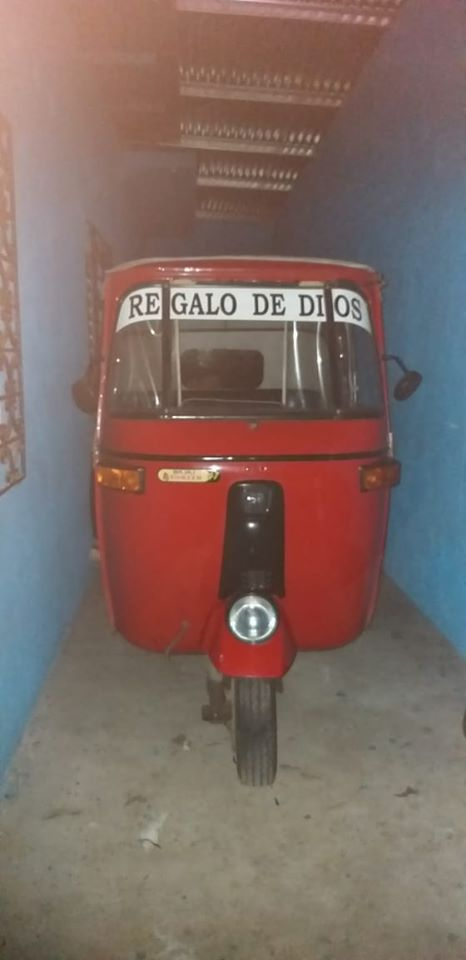mototaxi: (82, 248, 412, 793)
